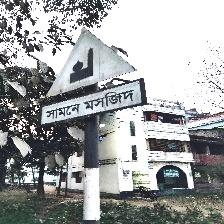Mosque in front: (41, 28, 143, 128)
